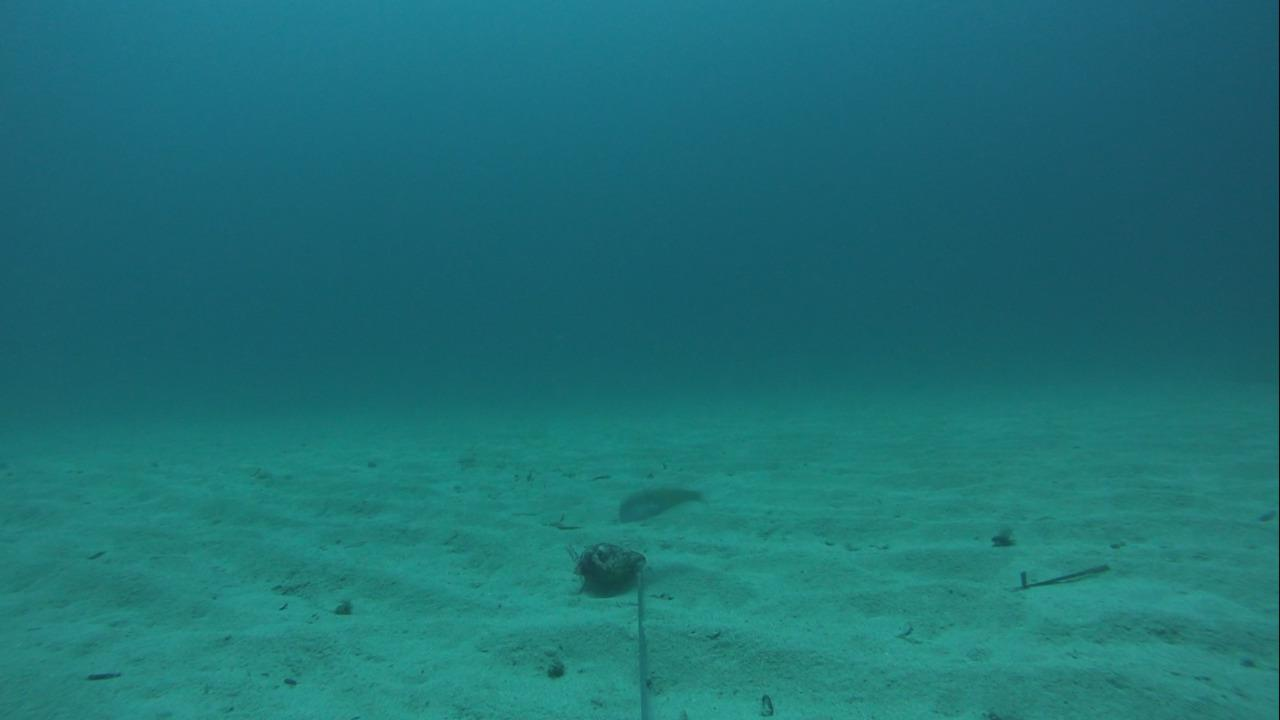raor: (611, 481, 708, 532)
